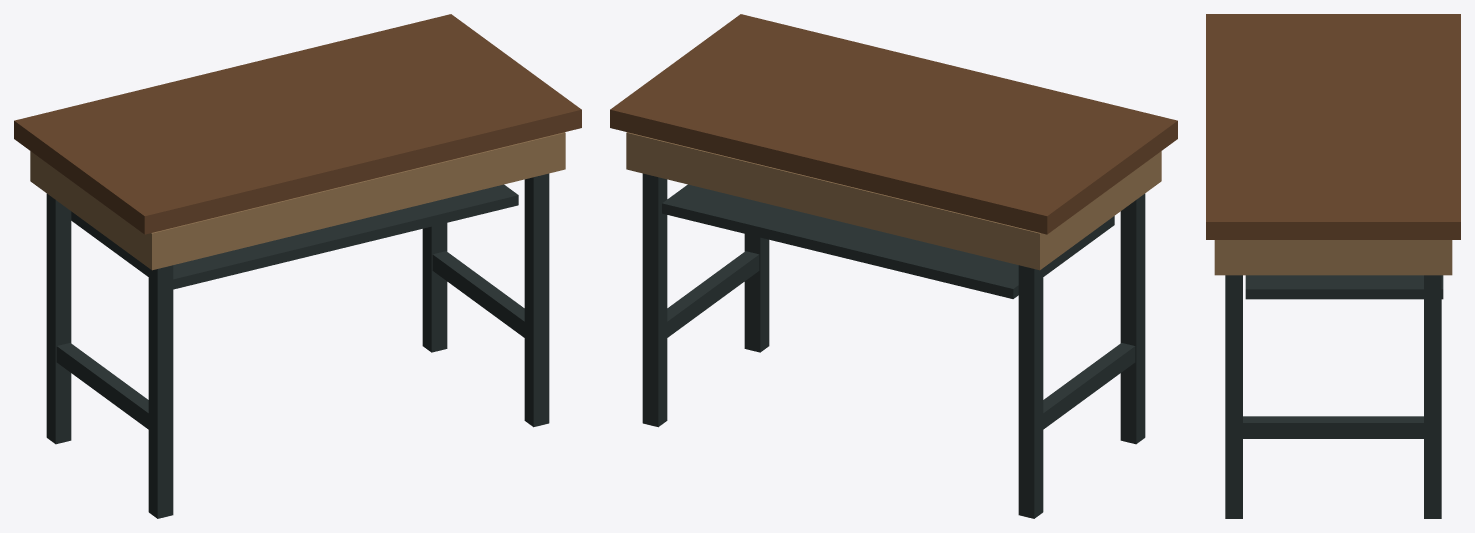
The model's file is student_desk.glb.
The picture shows the model from 3 angles, left to right: view 1: azimuth 30°, elevation 25°; view 2: azimuth 150°, elevation 25°; view 3: azimuth 270°, elevation 25°; orthographic projection. The views are drawn at different scales.
Visible parts, largest first — view 1: student_desk; view 2: student_desk; view 3: student_desk.
Boxes of the visible parts, bbox=[...] form: student_desk: bbox=[14, 14, 581, 518]; student_desk: bbox=[610, 14, 1177, 518]; student_desk: bbox=[1206, 14, 1460, 518].
Size of the model in its own units: 1.12 by 0.7725 by 0.58.
